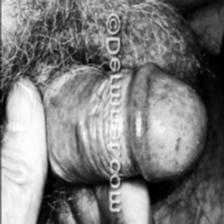Toxin: (62, 114, 90, 164), (164, 133, 182, 151)
